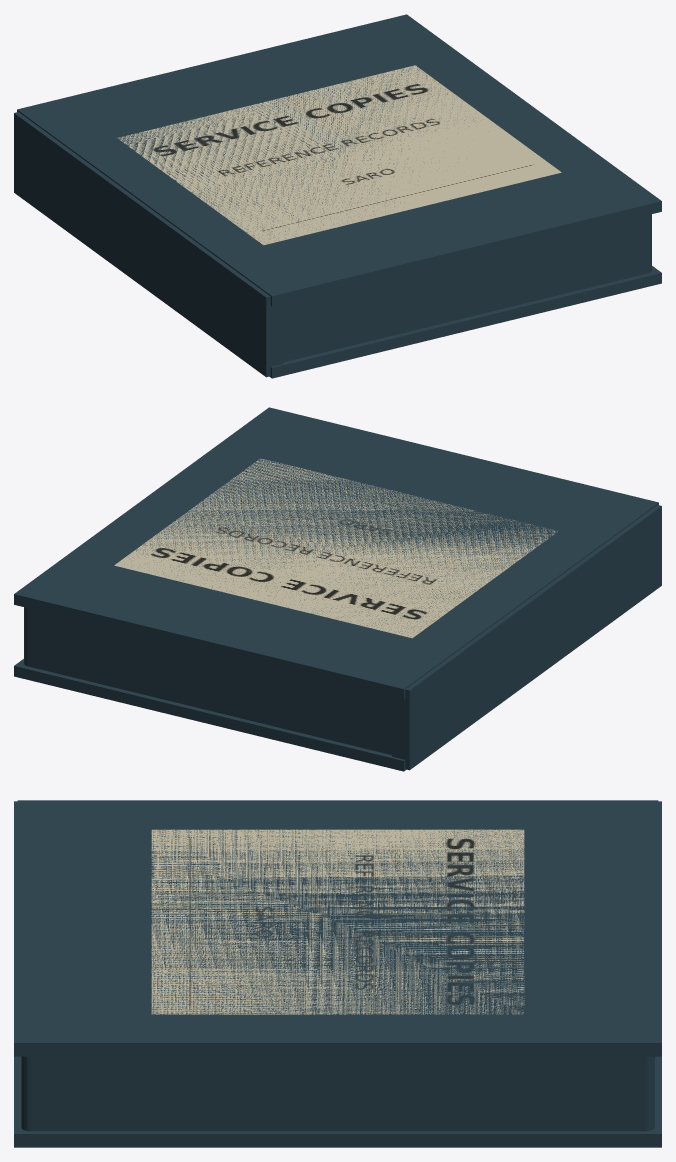
File: SM_ArchiveProps_ServiceBinder.fbx
3 renders of one model, top to bottom at view 1: azimuth 30°, elevation 25°; view 2: azimuth 150°, elevation 25°; view 3: azimuth 270°, elevation 25°, orthographic. The views are drawn at different scales.
Visible parts, largest first — view 1: SM_ArchiveProps_ServiceBinder; view 2: SM_ArchiveProps_ServiceBinder; view 3: SM_ArchiveProps_ServiceBinder.
Part boxes in pixels (x1=…): SM_ArchiveProps_ServiceBinder: x1=14, y1=14, x2=661, y2=378; SM_ArchiveProps_ServiceBinder: x1=14, y1=407, x2=661, y2=771; SM_ArchiveProps_ServiceBinder: x1=14, y1=800, x2=661, y2=1147.
Size of the model in its own units: 0.3105 by 0.348 by 0.062.
